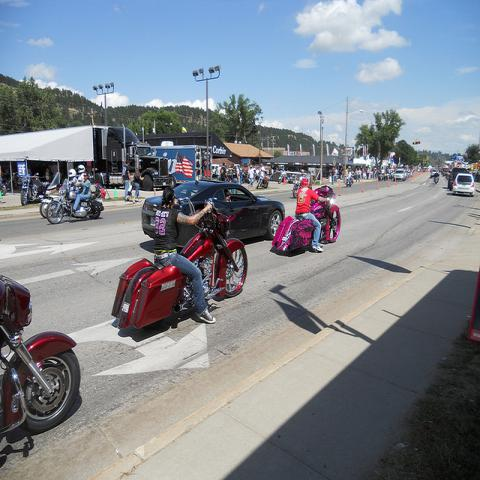car: (176, 179, 286, 241), (451, 172, 475, 197), (447, 168, 469, 191), (393, 169, 406, 181), (442, 168, 452, 177), (430, 170, 439, 178)
motorcycle: (111, 197, 247, 330), (0, 270, 81, 440), (270, 185, 340, 253), (46, 188, 104, 224), (20, 176, 48, 207), (39, 194, 58, 218), (256, 176, 269, 190), (346, 172, 353, 187), (434, 176, 438, 184), (446, 171, 449, 180)
truck: (92, 125, 178, 191), (151, 145, 212, 188), (393, 168, 407, 181)
